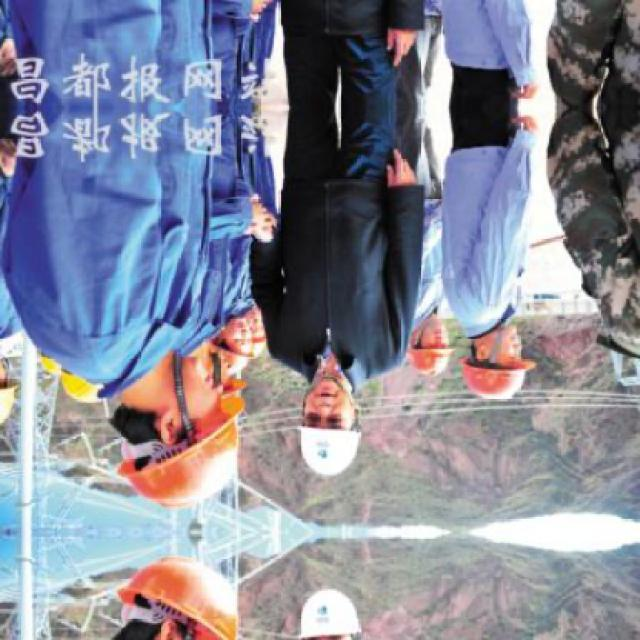con casco: (74, 323, 239, 512), (254, 365, 369, 497), (472, 300, 557, 401), (399, 308, 465, 382)
